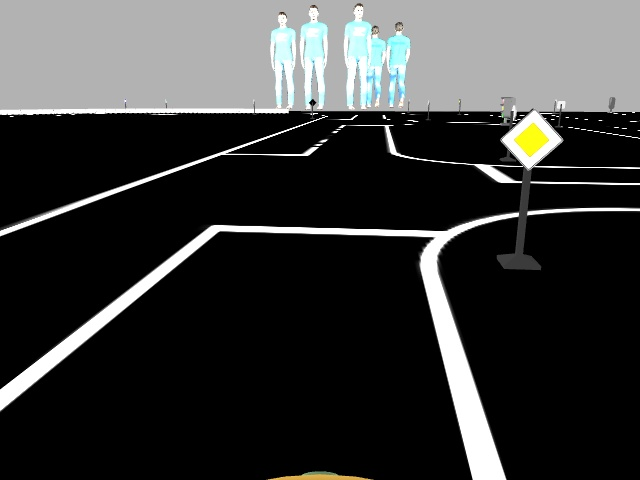Priority: (499, 107, 564, 170)
